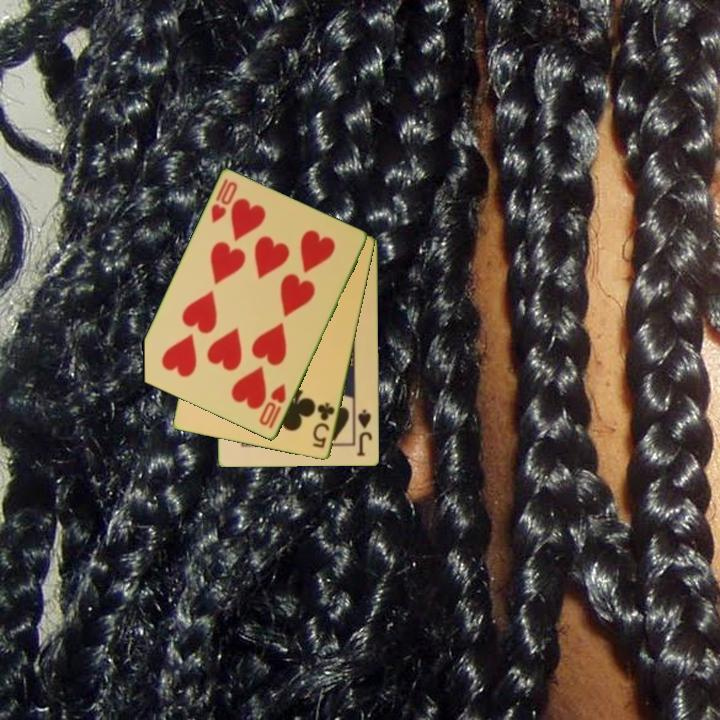10h: (256, 380, 289, 432), (208, 175, 240, 227)
5c: (309, 399, 338, 451)
Js: (353, 406, 375, 459)
